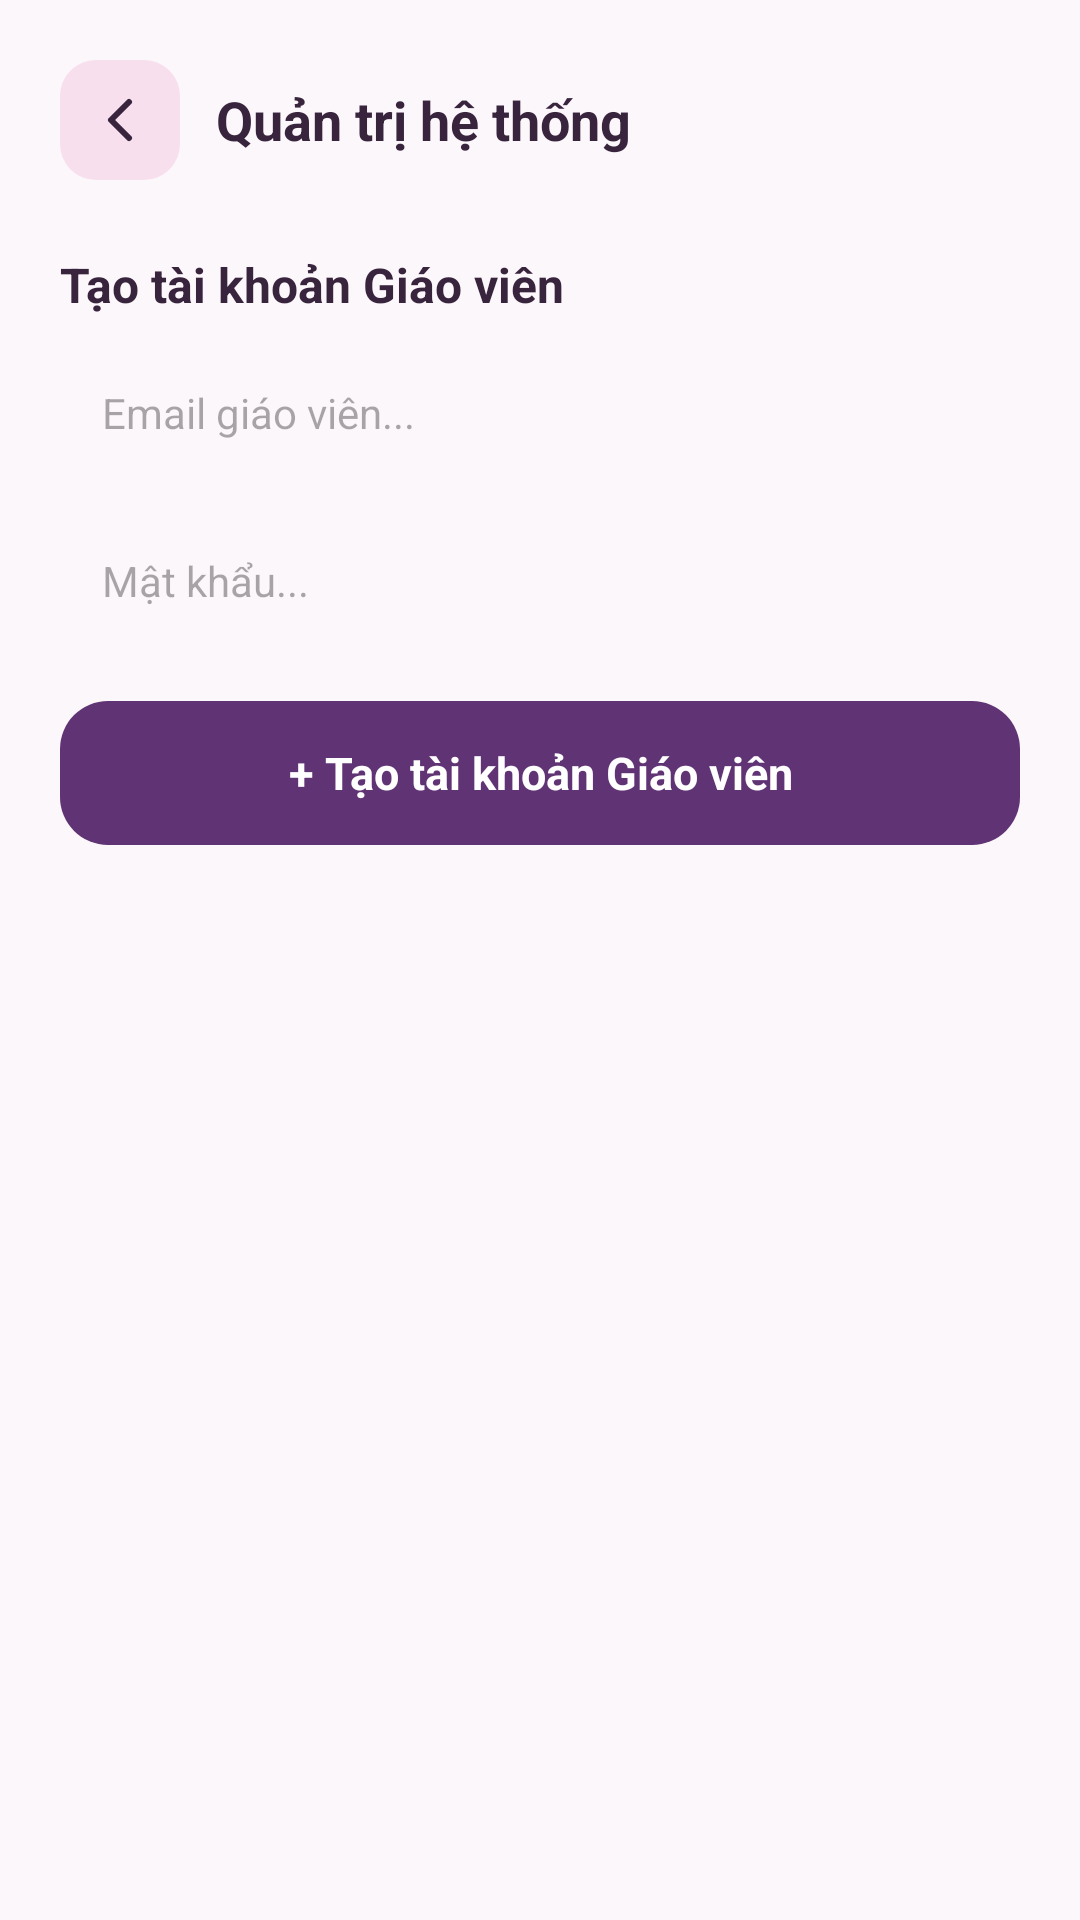

Named icons in this screenshot (1080*1920) and their centers, (x,y):
Quay lại: (120,120)
